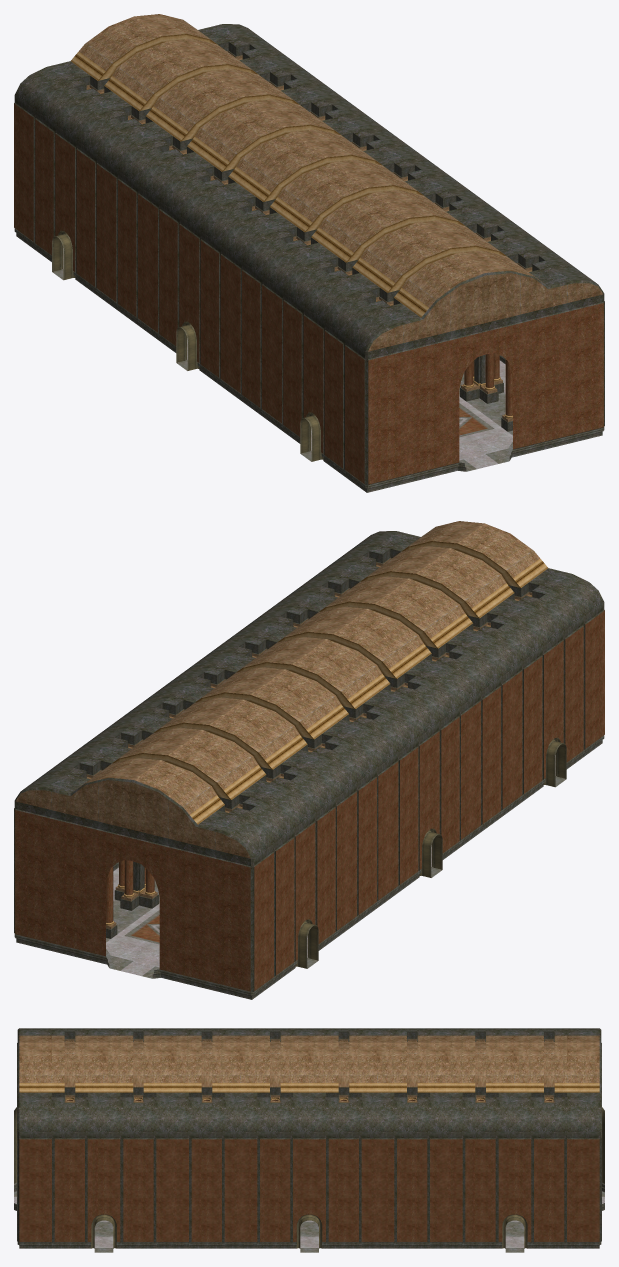
The model's file is thm_nboo_thed_theed_palace_r16_mesh_r16.fbx.
The picture shows the model from 3 angles, top to bottom: view 1: azimuth 30°, elevation 25°; view 2: azimuth 150°, elevation 25°; view 3: azimuth 270°, elevation 25°; orthographic projection. The views are drawn at different scales.
Visible parts, largest first — view 1: mesh_node; view 2: mesh_node; view 3: mesh_node.
Part boxes in pixels (left/top/right/bottom): mesh_node: left=14, top=14, right=604, bottom=492; mesh_node: left=14, top=521, right=604, bottom=999; mesh_node: left=14, top=1028, right=604, bottom=1252.
Bounding box in the file's own units: 32.07 × 22.95 × 77.7.
